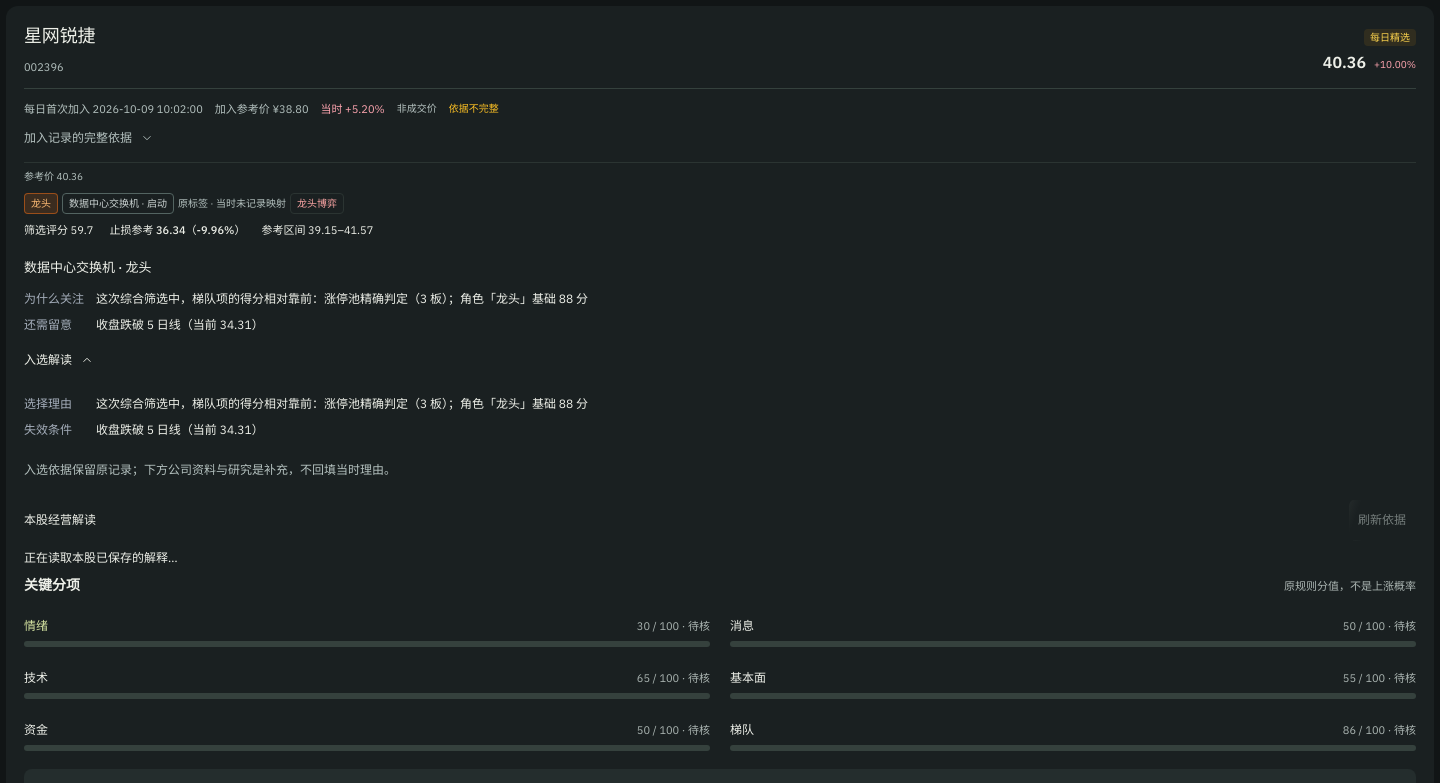
Test: keeps partial first-entry facts and explains why the original quote is untrusted
Expected: the text "依据不完整" is shown, [449, 101, 499, 118]
Expected: the text "2026-10-09 10:02:00" is shown, [93, 102, 203, 116]
Click the button "加入记录的完整依据". click: (89, 138)
box: [24, 122, 154, 154]
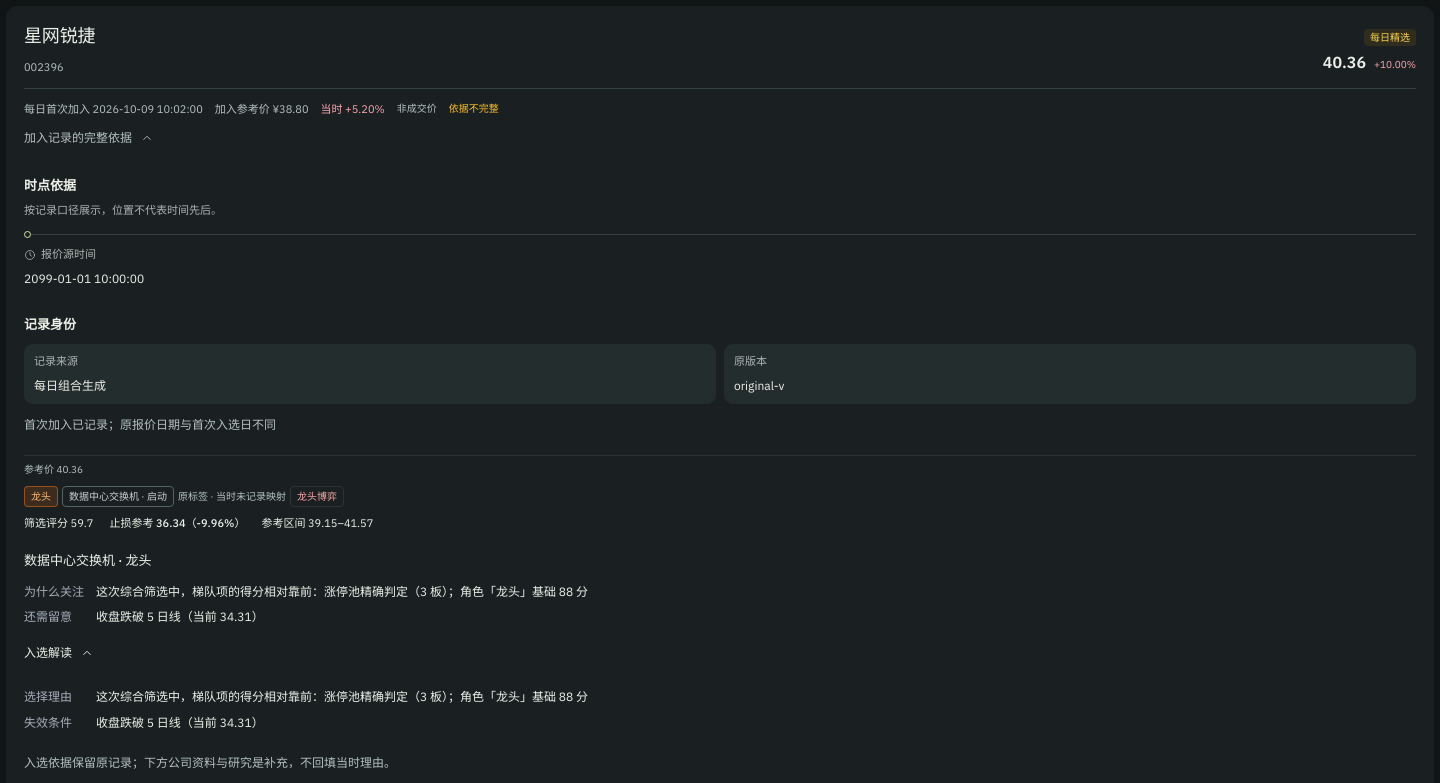
Result: the text "首次加入已记录；原报价日期与首次入选日不同" is shown at [24, 418, 276, 432]
